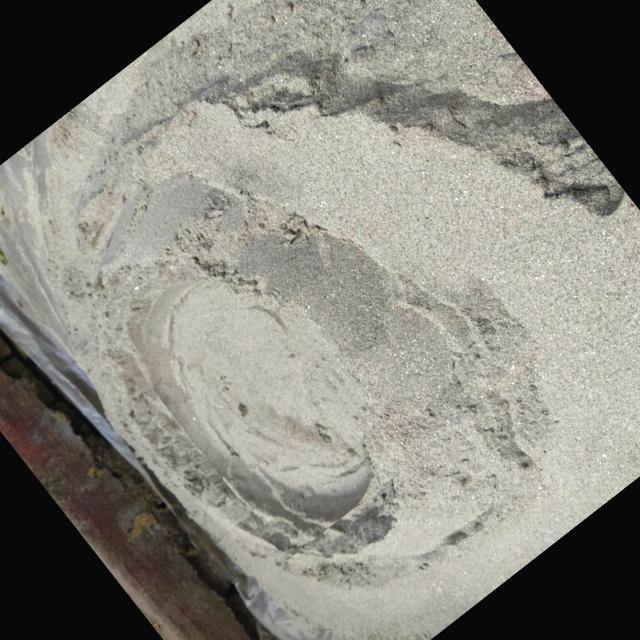C40: (144, 278, 374, 529)
